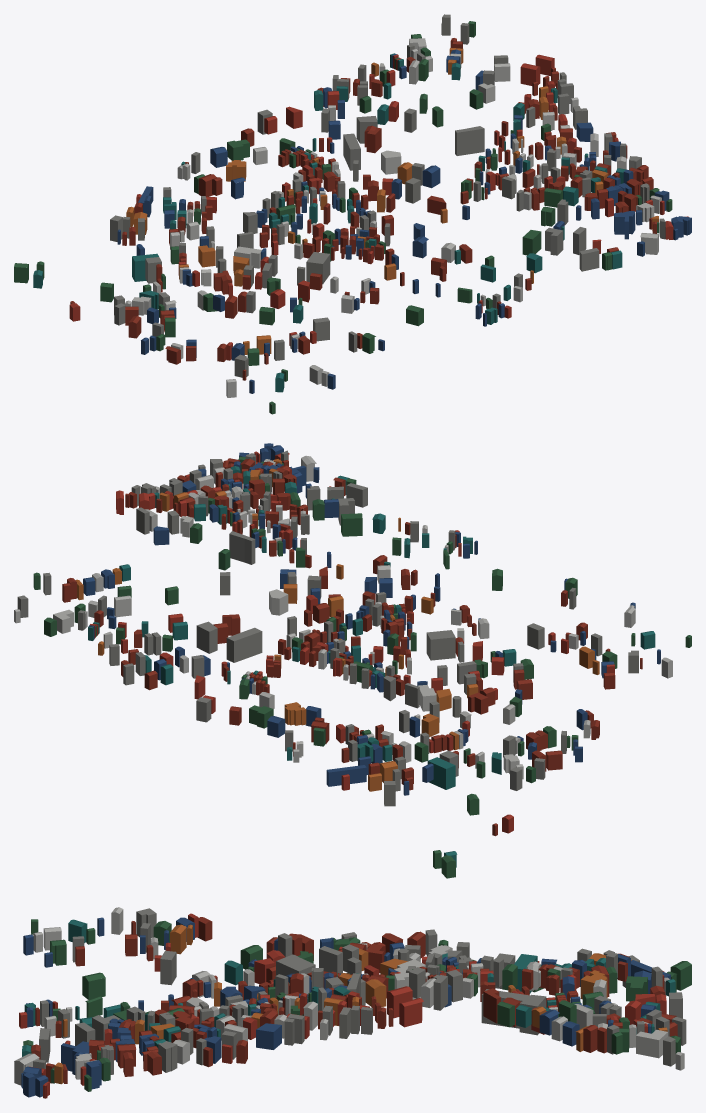
The model's file is near-16-54717-29740.8f6d4c38.glb.
3 views of the same model, one above another, from view 1: azimuth 30°, elevation 25°; view 2: azimuth 150°, elevation 25°; view 3: azimuth 270°, elevation 25° (orthographic). The views are drawn at different scales.
Bounding box in the file's own units: 595 × 255 × 600.
